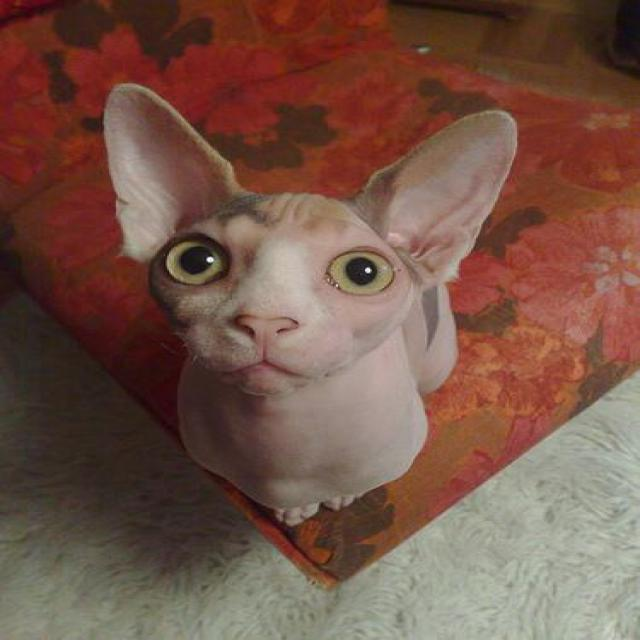cat: (100, 82, 516, 526)
